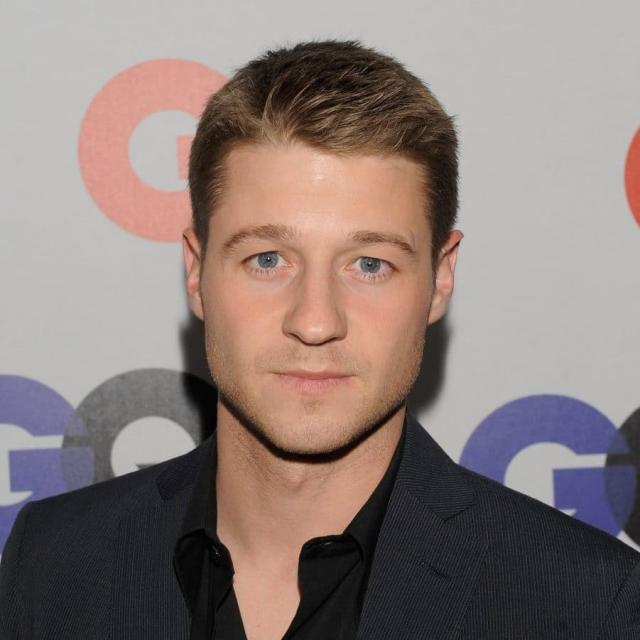human: (21, 30, 640, 640)
